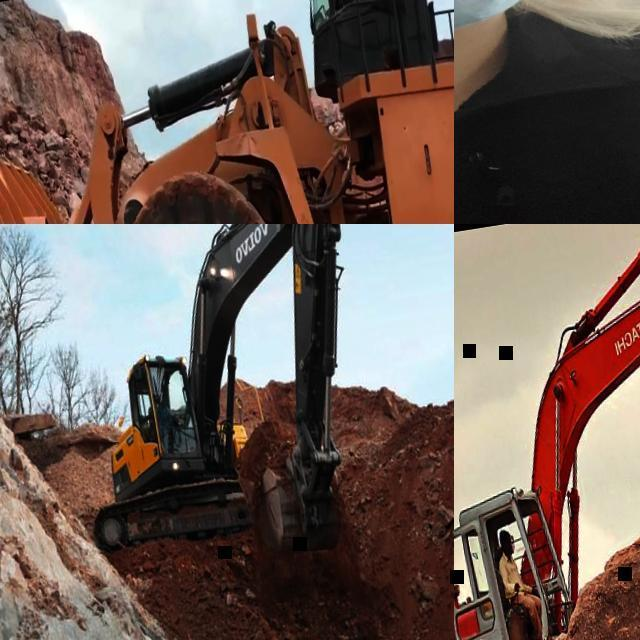no_helmet: (496, 525, 514, 544)
